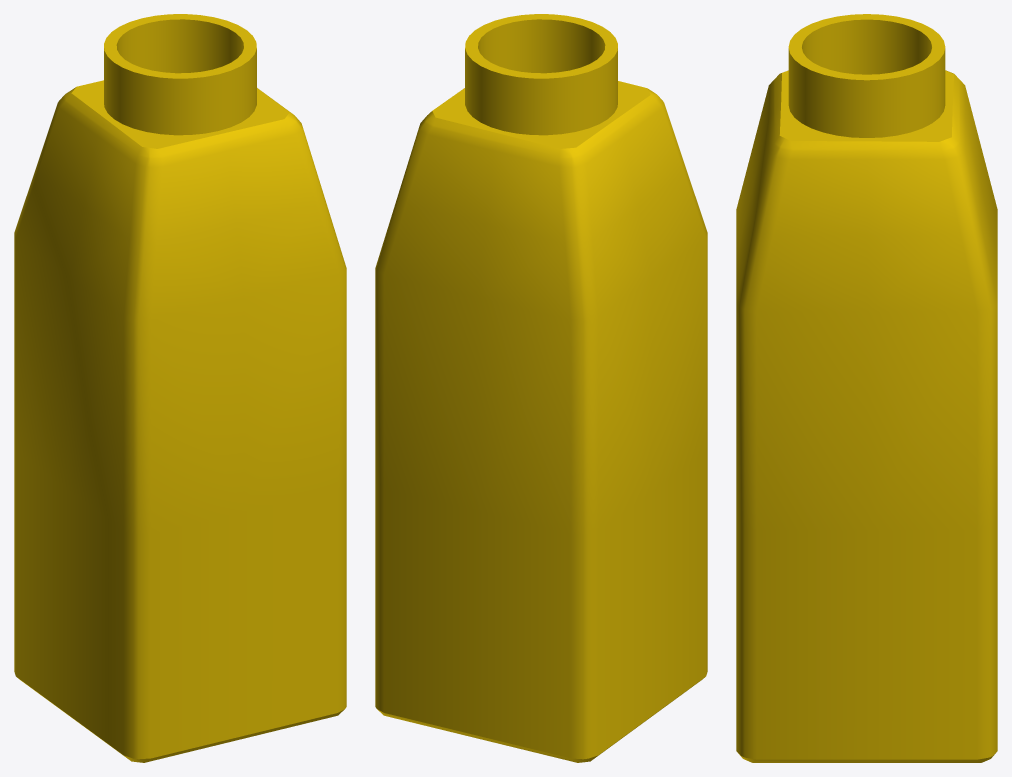
File: yellow_bottle.dae
The picture shows the model from 3 angles, left to right: view 1: azimuth 30°, elevation 25°; view 2: azimuth 150°, elevation 25°; view 3: azimuth 270°, elevation 25°; orthographic projection. The views are drawn at different scales.
Visible parts, largest first — view 1: Bottle Yellow; view 2: Bottle Yellow; view 3: Bottle Yellow.
Part boxes in pixels (left/top/right/bottom): Bottle Yellow: left=14, top=14, right=346, bottom=762; Bottle Yellow: left=375, top=14, right=707, bottom=762; Bottle Yellow: left=736, top=14, right=997, bottom=762.
Size of the model in its own units: 0.0635 by 0.0635 by 0.1778.
